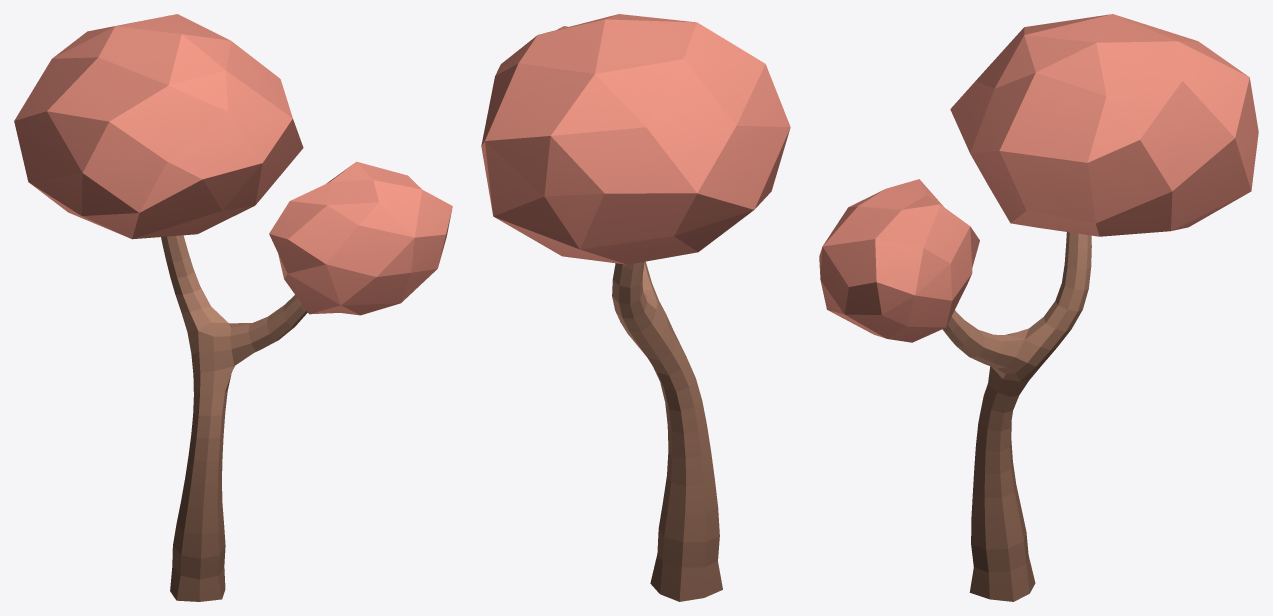
File: tree2.fbx
The picture shows the model from 3 angles, left to right: view 1: azimuth 30°, elevation 25°; view 2: azimuth 150°, elevation 25°; view 3: azimuth 270°, elevation 25°; orthographic projection. The views are drawn at different scales.
Parts seen in each view (by area): view 1: Cube.002; view 2: Cube.002; view 3: Cube.002.
Part boxes in pixels (x1,y1,x2,y2): Cube.002: (14, 14, 452, 601); Cube.002: (481, 14, 790, 601); Cube.002: (819, 14, 1258, 601).
Bounding box in the file's own units: 671 × 1069 × 761.
1 material, 1 textured.
